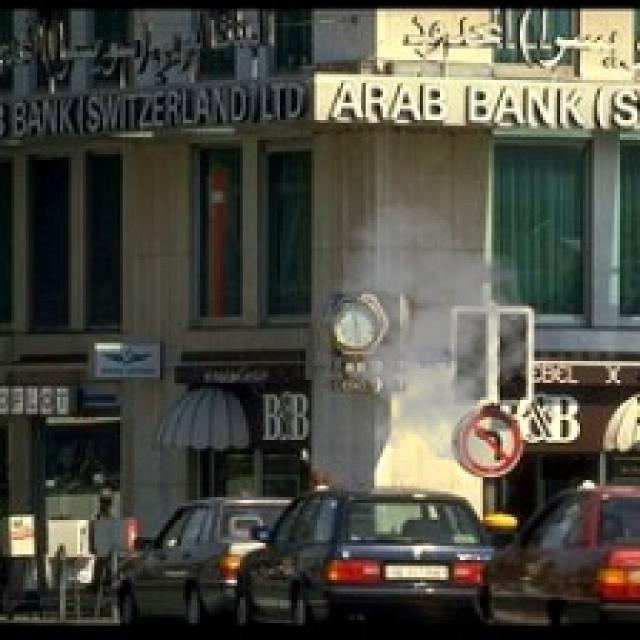smoke: (311, 200, 546, 469)
